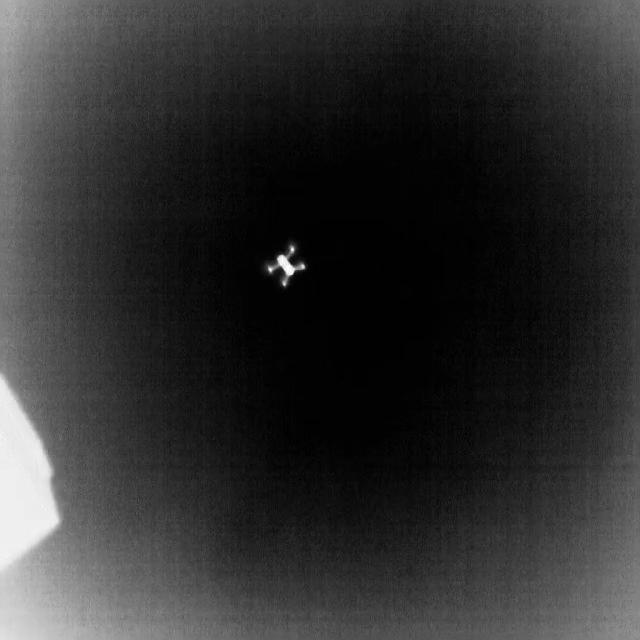drone: (264, 243, 308, 292)
